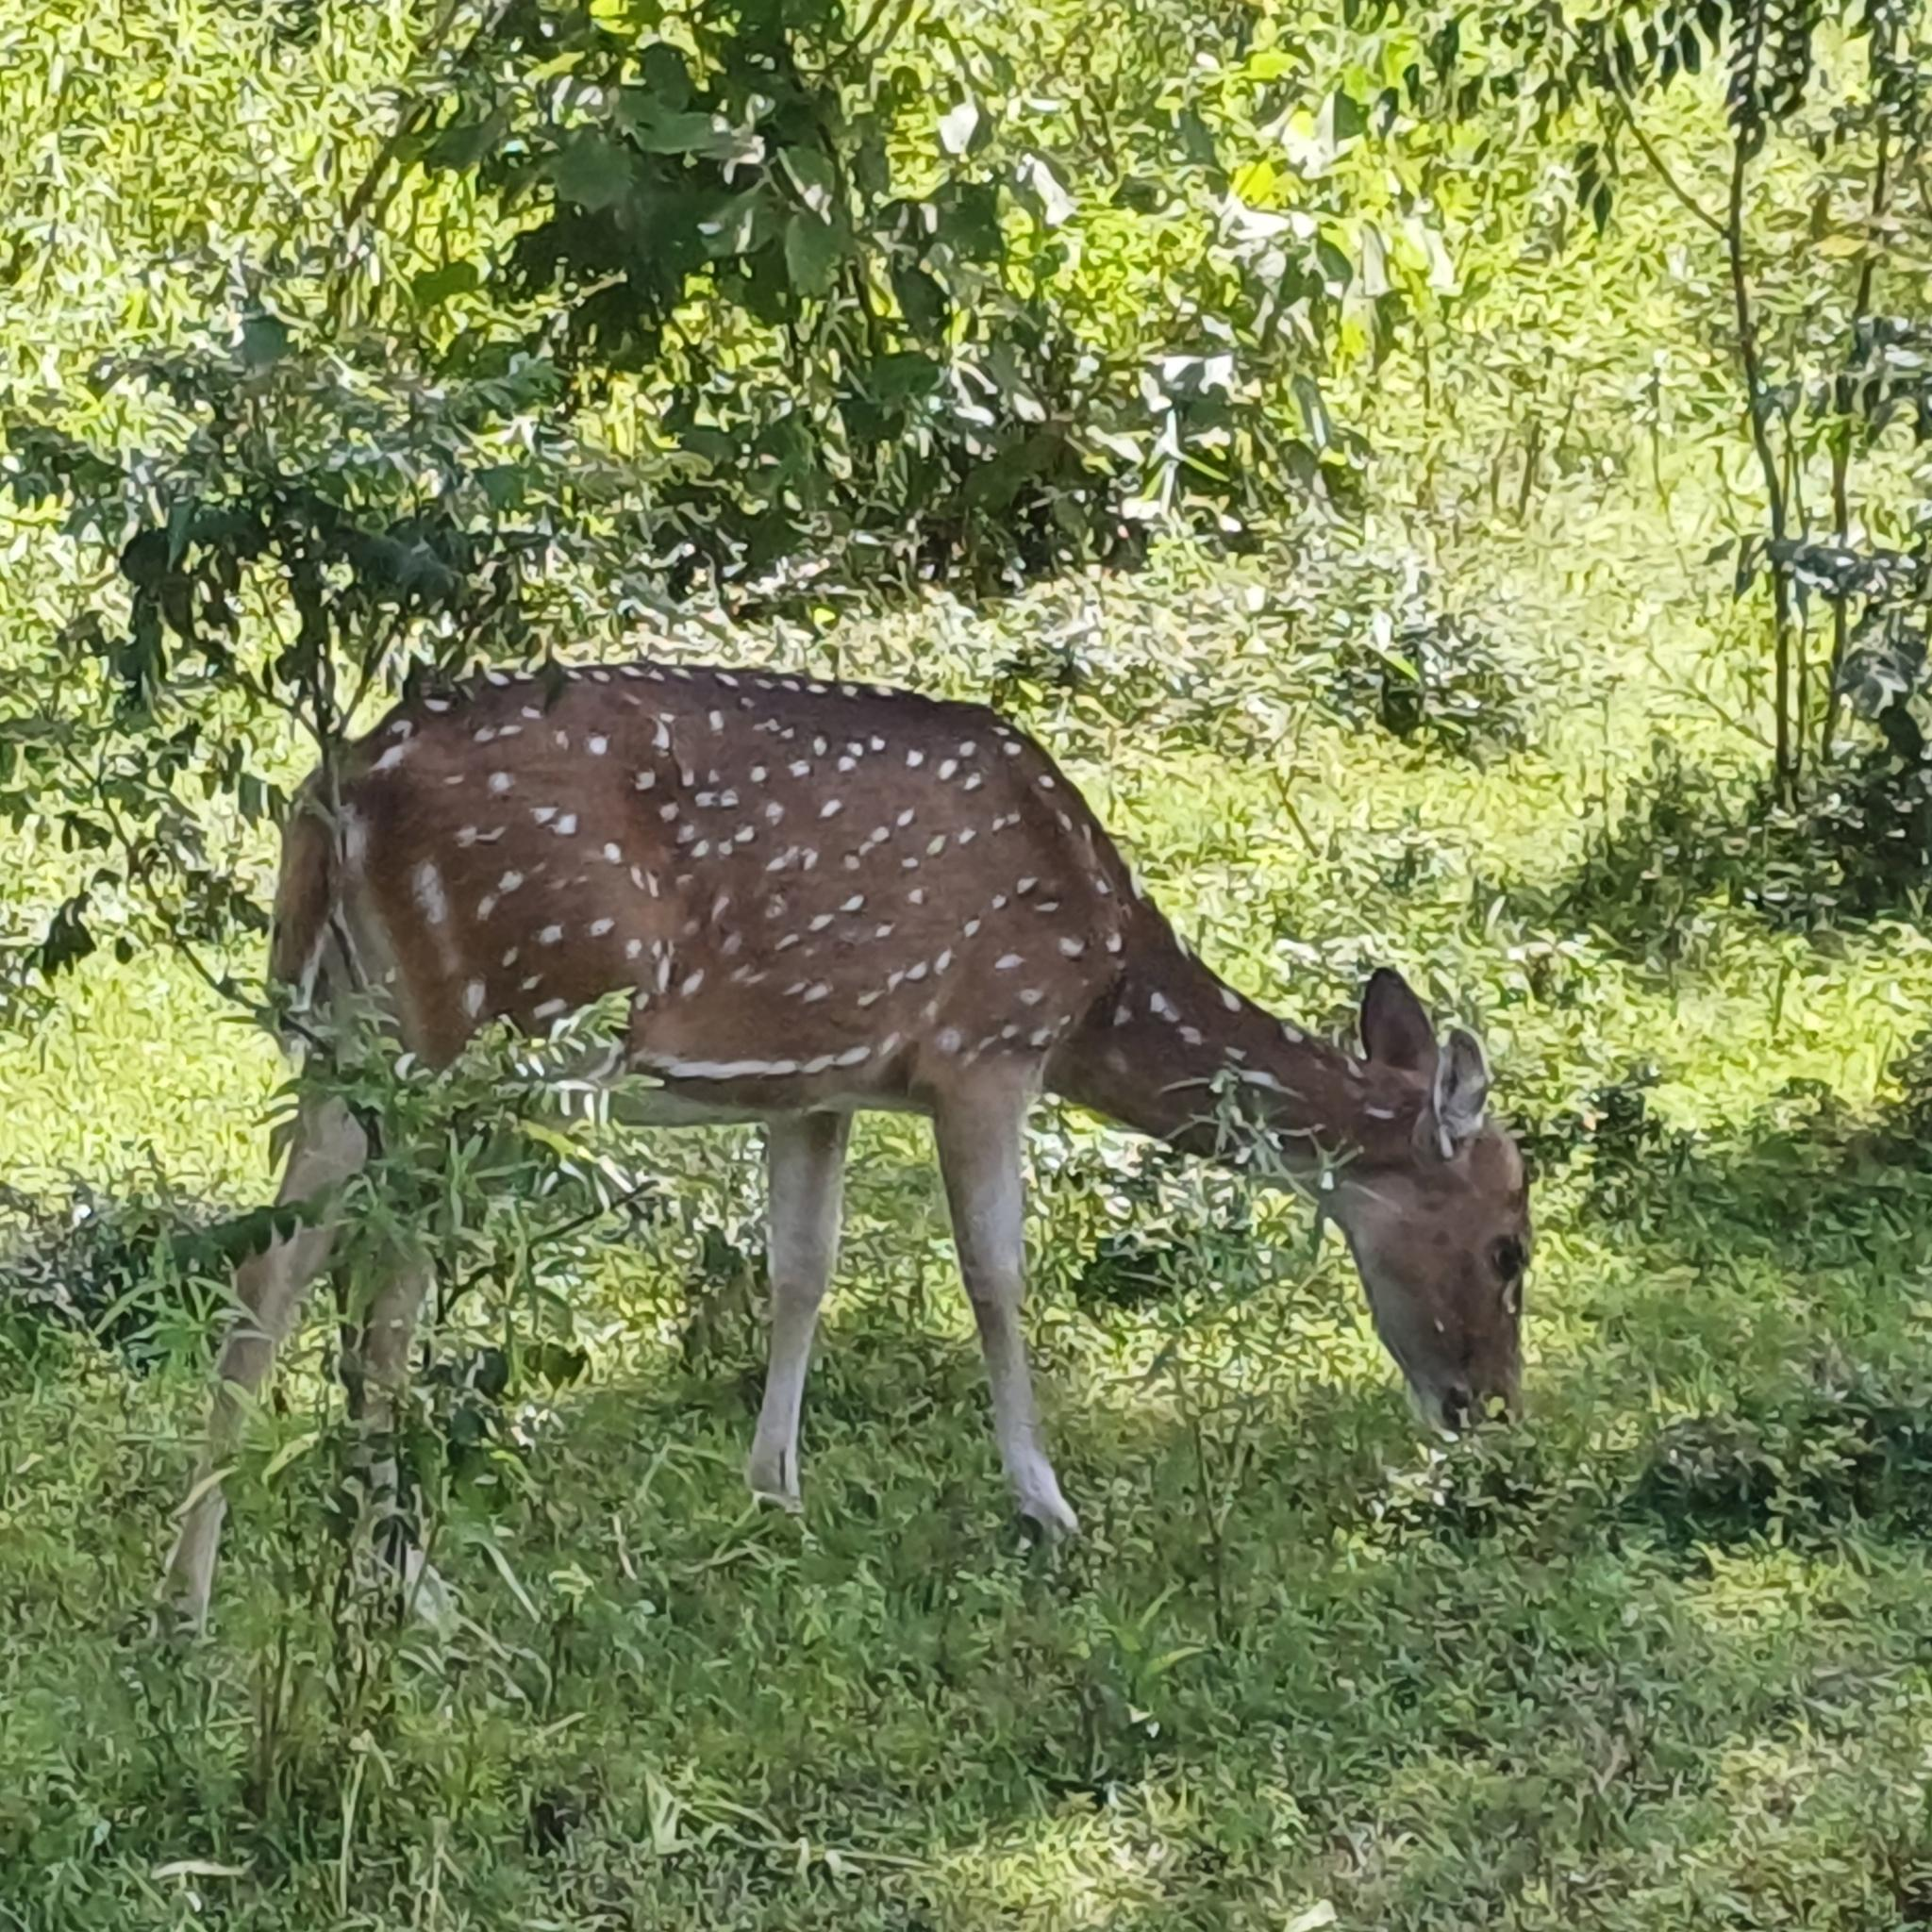Deer: (271, 665, 1530, 1532)
